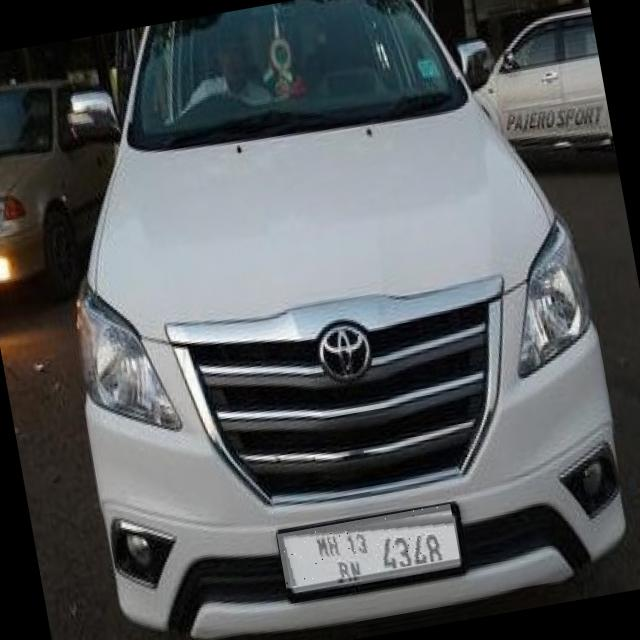Plate: (278, 505, 461, 593)
